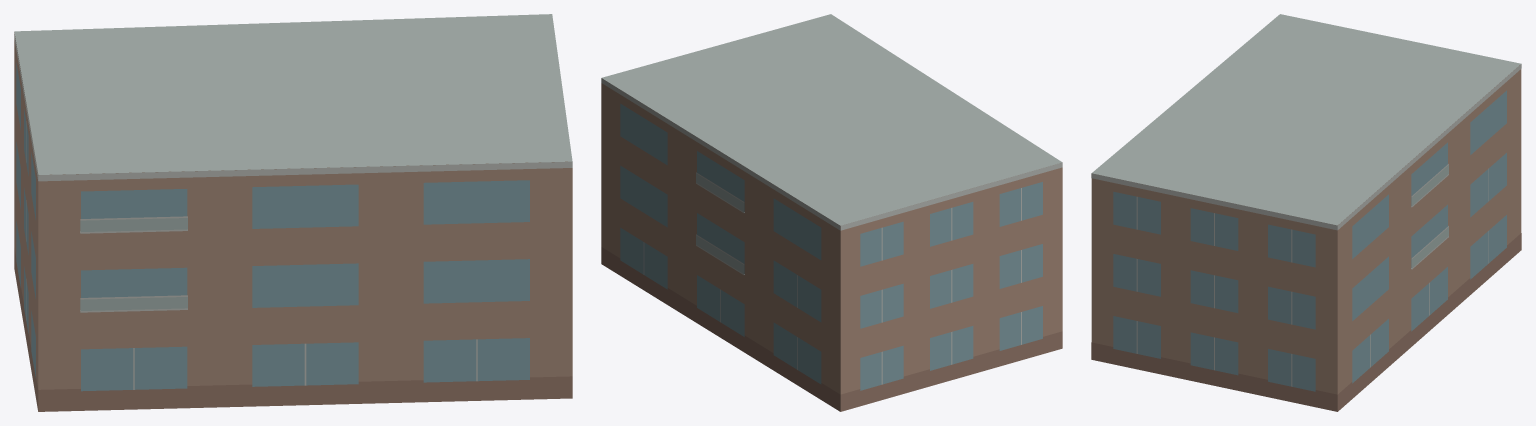
Rendered from survey-upis-32951773.glb.
3 views of the same model, side by side, from view 1: azimuth 30°, elevation 25°; view 2: azimuth 150°, elevation 25°; view 3: azimuth 270°, elevation 25° (orthographic). The views are drawn at different scales.
Visible parts, largest first — view 1: survey-upis-32951773.tmp; view 2: survey-upis-32951773.tmp; view 3: survey-upis-32951773.tmp.
Part boxes in pixels (box(x1,y1,x2,y2)): survey-upis-32951773.tmp: box(14, 14, 572, 411); survey-upis-32951773.tmp: box(601, 14, 1062, 411); survey-upis-32951773.tmp: box(1091, 14, 1521, 411).
Bounding box in the file's own units: 22.27 × 9.15 × 19.13.
